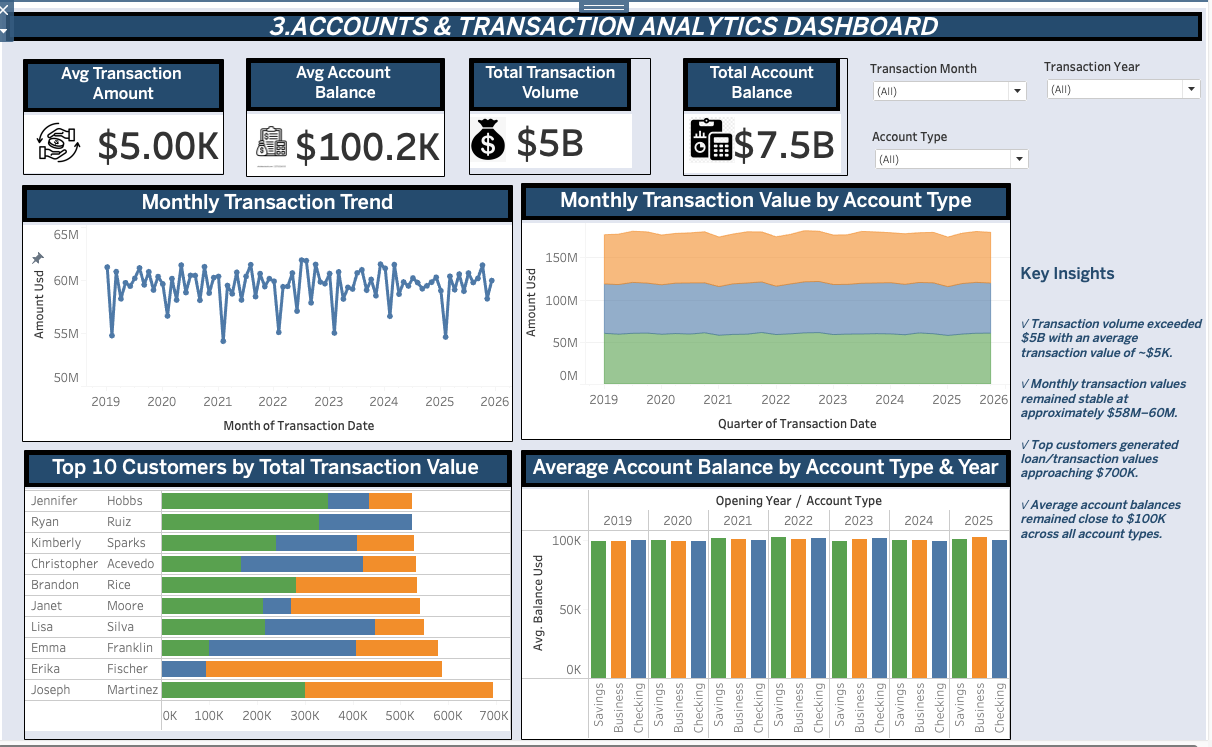

The page's visual inventory and layout, read from the dashboard file:
{"tool":"tableau","page":{"name":"DASHBOARD 3.ACCOUNTS & TRANSACTION ANALYTICS","canvas":[1220,800],"ordinal":2},"visuals":[{"type":"title","box":[8,8,1204,37]},{"type":"worksheet","title":"20.KPI_Average_ACC_Balance","mark":"Automatic","box":[252,58,199,119]},{"type":"worksheet","title":"4.KPI_Total_Transaction _Volume","mark":"Automatic","box":[475,58,182,117]},{"type":"worksheet","title":"5.KPI_Total_Account_Balance","mark":"Text","box":[689,58,165,118]},{"type":"filter","title":"22.CH_Monthly_Transaction_Value_by_Account_Type","param":"[federated.0l0uwan0u13drs14cdgol1eprp4j].[none:Transaction_Year:ok]","box":[1050,58,160,44]},{"type":"worksheet","title":"19_KPI_Average_Transaction_Amount","mark":"Automatic","box":[29,59,201,116]},{"type":"filter","title":"21.CH_Monthly_Transaction_Trend_Year","param":"[federated.0l0uwan0u13drs14cdgol1eprp4j].[none:Transaction_Month:ok]","box":[876,60,160,44]},{"type":"image","param":"/Users/bussathejaswini/Downloads/TRANS.png","box":[39,117,66,51]},{"type":"image","param":"/Users/bussathejaswini/Downloads/MON.png","box":[476,117,39,45]},{"type":"image","param":"/Users/bussathejaswini/Downloads/ACC.png","box":[695,117,51,46]},{"type":"image","param":"/Users/bussathejaswini/Downloads/cost.png","box":[254,118,47,57]},{"type":"filter","title":"22.CH_Monthly_Transaction_Value_by_Account_Type","param":"[federated.0l0uwan0u13drs14cdgol1eprp4j].[none:account_type:nk]","box":[878,128,160,44]},{"type":"worksheet","title":"22.CH_Monthly_Transaction_Value_by_Account_Type","mark":"Area","rows":["amount_usd"],"cols":["transaction_date"],"box":[527,183,490,257]},{"type":"worksheet","title":"21.CH_Monthly_Transaction_Trend_Year","mark":"Line","rows":["amount_usd"],"cols":["transaction_date"],"box":[28,185,491,257]},{"type":"text","box":[1024,235,187,330]},{"type":"worksheet","title":"23.CH_Top 10 Customers by Transaction Value","mark":"Automatic","rows":["first_name","last_name"],"cols":["amount_usd"],"box":[30,450,488,290]},{"type":"worksheet","title":"24.CH_Average Account Balance by Account Type & Year","mark":"Bar","rows":["balance_usd"],"cols":["Opening_Year","account_type"],"box":[527,450,490,290]}]}

Visuals, with their boxes on the page's 1220x800 design canvas (x1, y1, x2, y2). These are canvas units, not pixel positions in the 1212x747 screenshot, which may show the page scaled, cropped or inside an application window:
title: rect(8, 8, 1212, 45)
"20.KPI_Average_ACC_Balance" worksheet: rect(252, 58, 451, 177)
"4.KPI_Total_Transaction _Volume" worksheet: rect(475, 58, 657, 175)
"5.KPI_Total_Account_Balance" worksheet (Text marks): rect(689, 58, 854, 176)
"22.CH_Monthly_Transaction_Value_by_Account_Type" filter: rect(1050, 58, 1210, 102)
"19_KPI_Average_Transaction_Amount" worksheet: rect(29, 59, 230, 175)
"21.CH_Monthly_Transaction_Trend_Year" filter: rect(876, 60, 1036, 104)
image: rect(39, 117, 105, 168)
image: rect(476, 117, 515, 162)
image: rect(695, 117, 746, 163)
image: rect(254, 118, 301, 175)
"22.CH_Monthly_Transaction_Value_by_Account_Type" filter: rect(878, 128, 1038, 172)
"22.CH_Monthly_Transaction_Value_by_Account_Type" worksheet (Area marks): rect(527, 183, 1017, 440)
"21.CH_Monthly_Transaction_Trend_Year" worksheet (Line marks): rect(28, 185, 519, 442)
text: rect(1024, 235, 1211, 565)
"23.CH_Top 10 Customers by Transaction Value" worksheet: rect(30, 450, 518, 740)
"24.CH_Average Account Balance by Account Type & Year" worksheet (Bar marks): rect(527, 450, 1017, 740)
